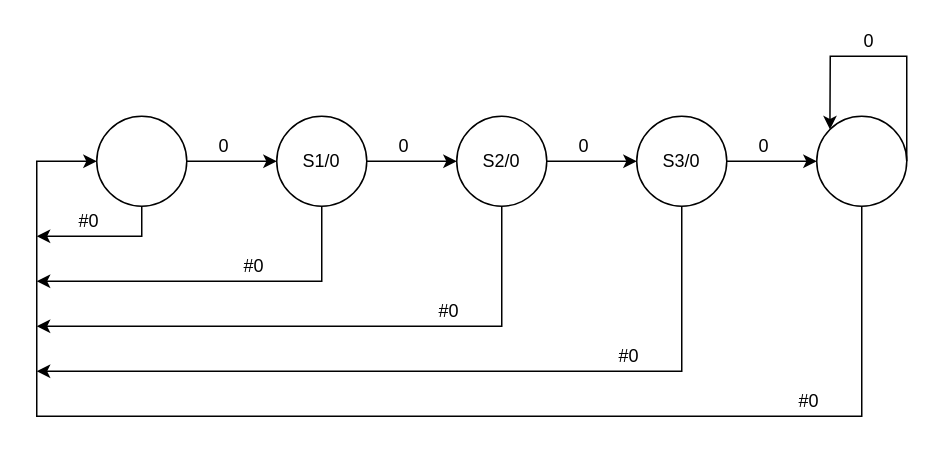
The diagram is 945 pixels wide and 455 high, and some of its shapes have lost their labels. Here are the shapes that lost their labels. From the top down, the box of each, then its label:
(95, 115, 187, 206): S0/0
(815, 115, 907, 206): S4/1
